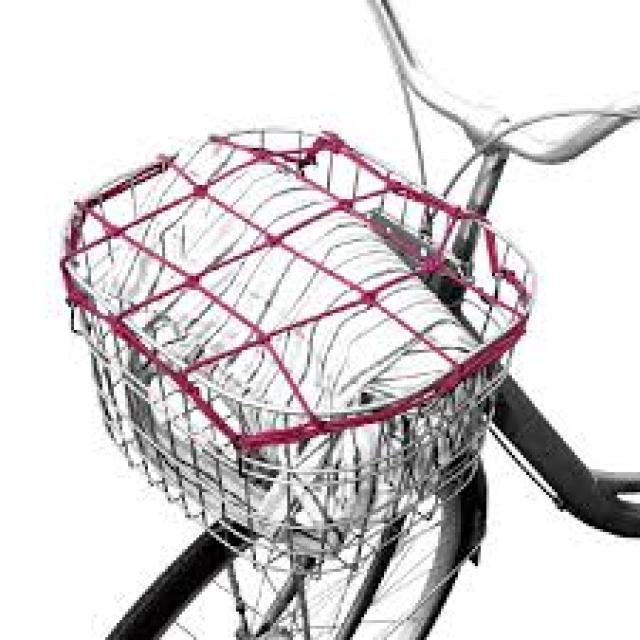basket: (64, 127, 536, 581)
